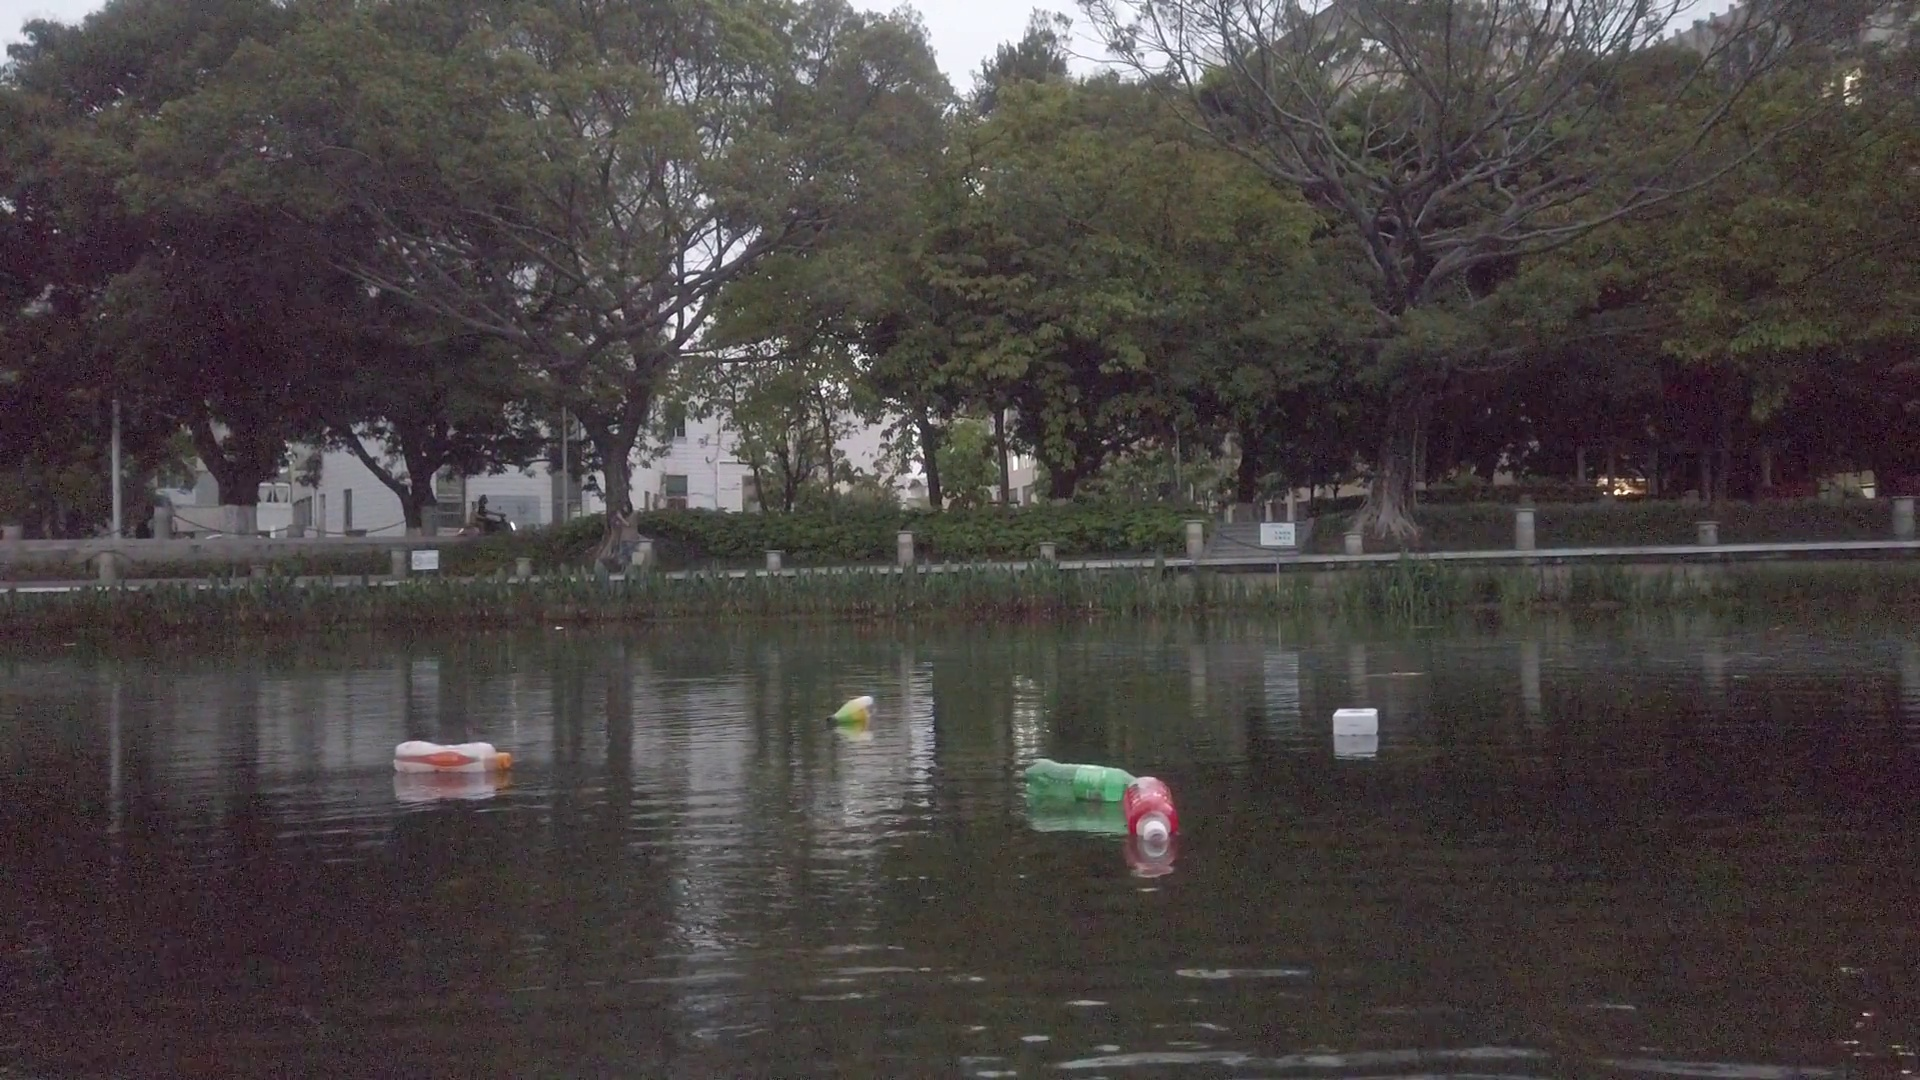bottle: (1021, 758, 1149, 804), (1121, 771, 1179, 851), (392, 741, 512, 773), (829, 695, 880, 727)
carton: (1331, 705, 1379, 737)
